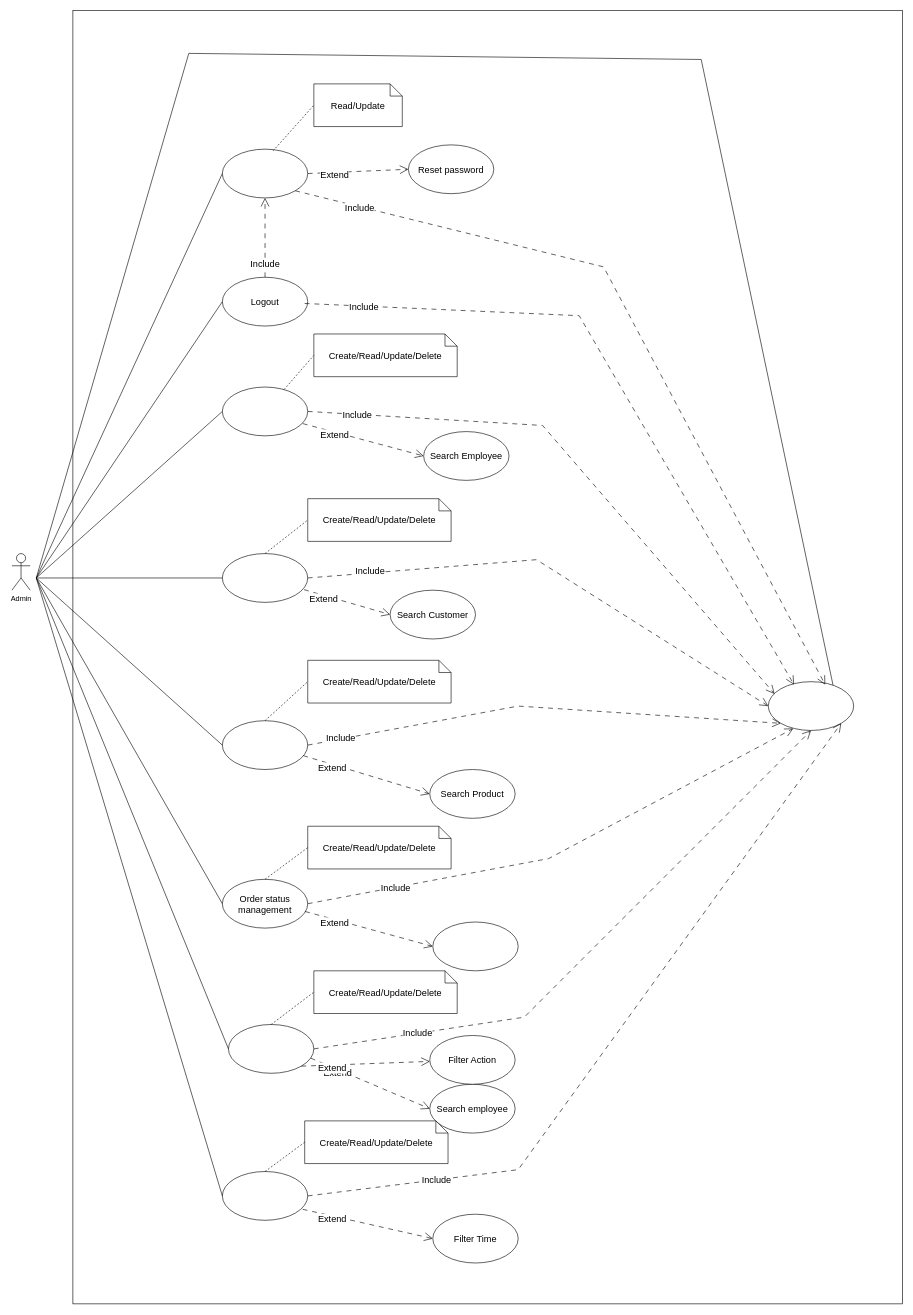
Some shapes in this 913 by 1315 pixel diagram are drawn without their labels. The centre of each missing label's shape, as x and y in pixels:
Customer Management: [265,577]
Employee Management: [265,411]
Login: [811,705]
Product Management: [265,745]
Profile management: [265,173]
Search Order: [475,946]
View employee ativity log: [271,1048]
View statistic: [265,1195]
